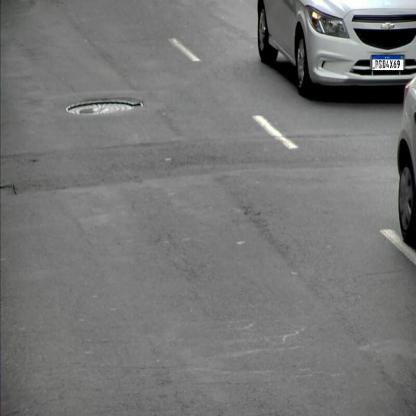PlacaM: (372, 54, 404, 70)
